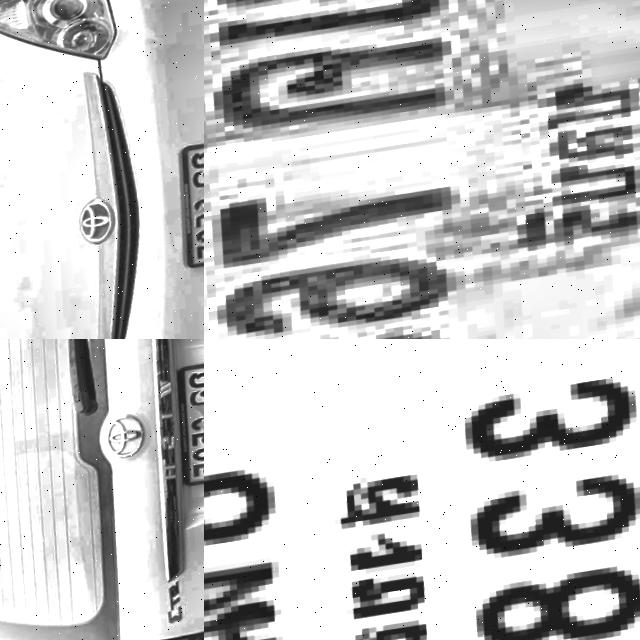license-plate: (204, 0, 640, 339), (204, 339, 640, 640), (167, 353, 204, 491), (172, 136, 204, 273)
